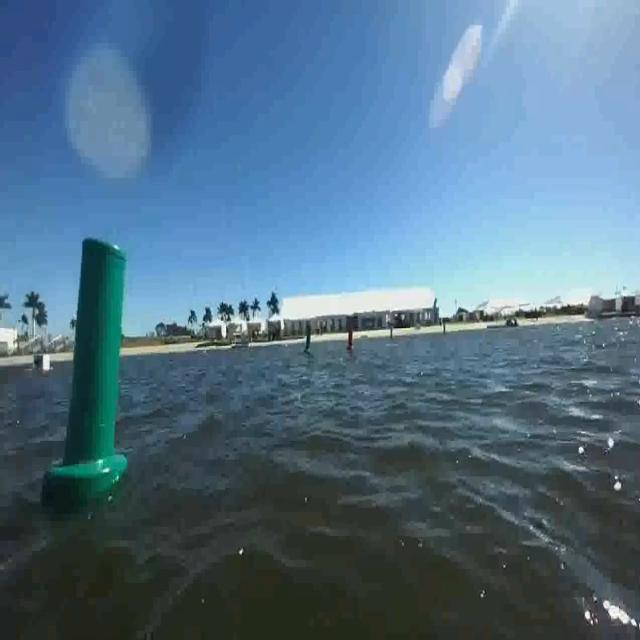green-column-buoy: (47, 236, 130, 489), (304, 322, 314, 356)
red-column-buoy: (347, 327, 356, 353)
